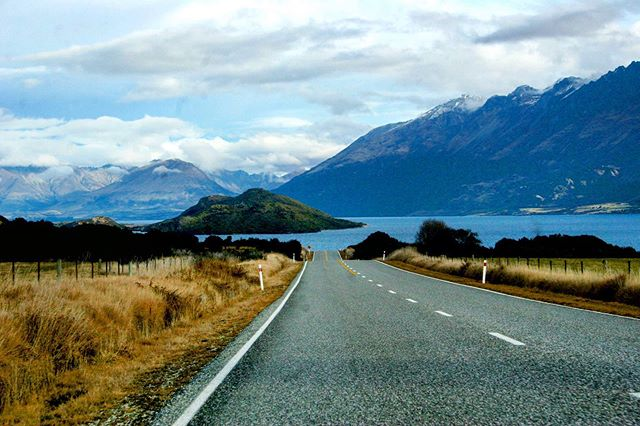mountain: (317, 53, 640, 172)
road: (182, 256, 640, 426)
sea: (239, 209, 630, 260)
sky: (9, 1, 640, 147)
vegetation: (1, 223, 270, 414)
